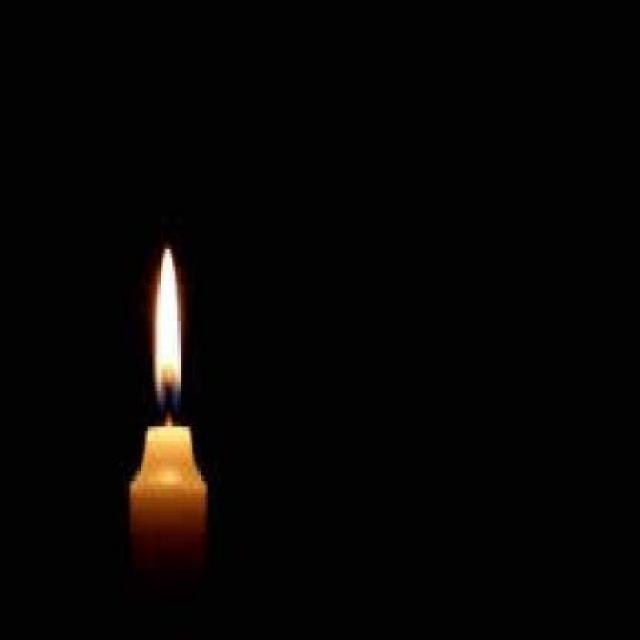Fire: (150, 242, 187, 418)
